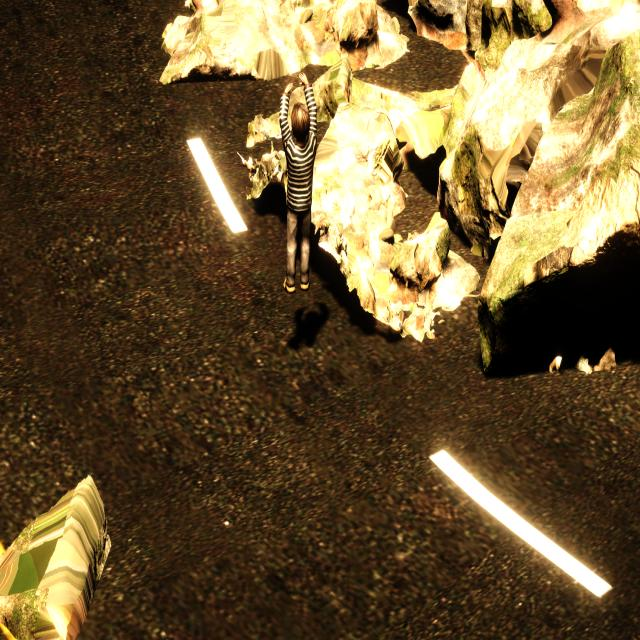Human: (278, 64, 318, 297)
